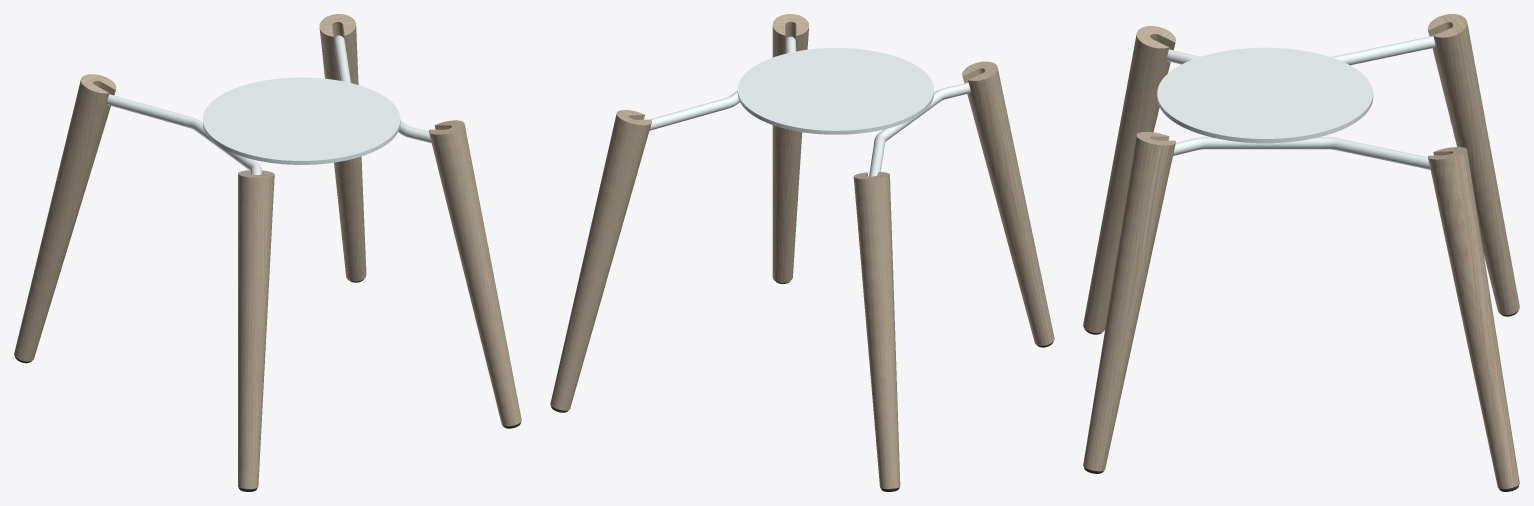
3 renders of one model, left to right at view 1: azimuth 30°, elevation 25°; view 2: azimuth 150°, elevation 25°; view 3: azimuth 270°, elevation 25°, orthographic. The views are drawn at different scales.
Parts seen in each view (by area): view 1: PIASTRA, GAMBA_3wood_change_texture_, GAMBA_4wood_change_texture_, GAMBA_2wood_change_texture_, GAMBA_1wood_change_texture_, TONDINO_2, TONDINO_1; view 2: PIASTRA, GAMBA_2wood_change_texture_, GAMBA_1wood_change_texture_, GAMBA_3wood_change_texture_, GAMBA_4wood_change_texture_, TONDINO_1, TONDINO_2; view 3: PIASTRA, GAMBA_1wood_change_texture_, GAMBA_4wood_change_texture_, GAMBA_2wood_change_texture_, GAMBA_3wood_change_texture_, TONDINO_1, TONDINO_2.
Part boxes in pixels (bbox=[...]): PIASTRA: bbox=[203, 77, 400, 164]; GAMBA_3wood_change_texture_: bbox=[238, 170, 274, 488]; GAMBA_4wood_change_texture_: bbox=[428, 120, 521, 426]; GAMBA_2wood_change_texture_: bbox=[14, 74, 116, 361]; GAMBA_1wood_change_texture_: bbox=[319, 14, 366, 281]; TONDINO_2: bbox=[107, 94, 261, 174]; TONDINO_1: bbox=[334, 35, 431, 143]; PIASTRA: bbox=[737, 48, 933, 134]; GAMBA_2wood_change_texture_: bbox=[853, 172, 900, 488]; GAMBA_1wood_change_texture_: bbox=[550, 110, 651, 410]; GAMBA_3wood_change_texture_: bbox=[962, 61, 1054, 345]; GAMBA_4wood_change_texture_: bbox=[772, 14, 809, 282]; TONDINO_1: bbox=[649, 36, 796, 130]; TONDINO_2: bbox=[869, 82, 970, 176]; PIASTRA: bbox=[1157, 47, 1373, 143]; GAMBA_1wood_change_texture_: bbox=[1428, 147, 1519, 489]; GAMBA_4wood_change_texture_: bbox=[1083, 131, 1175, 471]; GAMBA_2wood_change_texture_: bbox=[1428, 14, 1519, 315]; GAMBA_3wood_change_texture_: bbox=[1083, 26, 1175, 333]; TONDINO_1: bbox=[1173, 137, 1430, 169]; TONDINO_2: bbox=[1166, 36, 1435, 65].
Size of the model in its own units: 0.5105 by 0.4069 by 0.5056.
3 materials, 2 textured.
